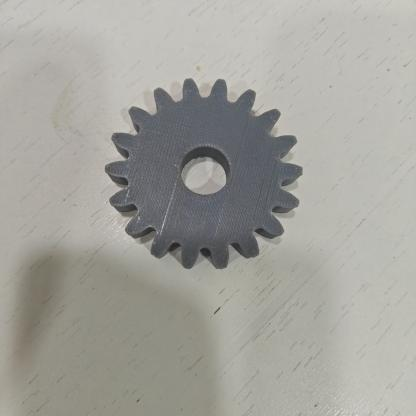gear: (105, 79, 302, 268)
